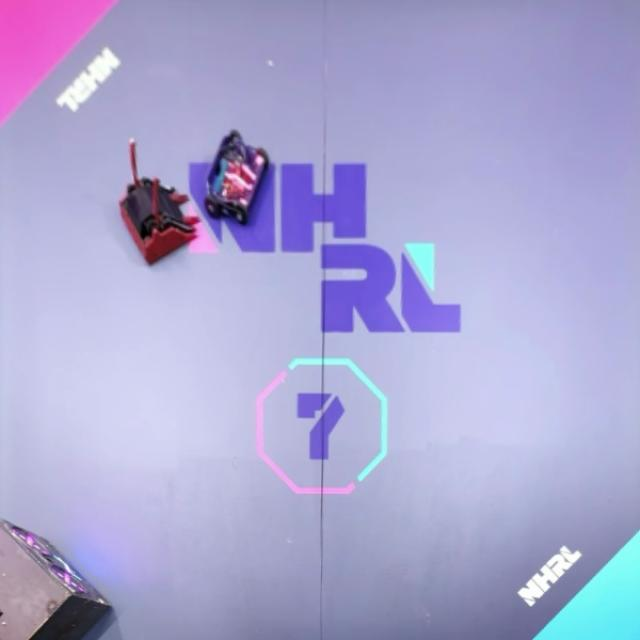housebot: (0, 520, 115, 640)
robot: (119, 137, 201, 266), (203, 131, 270, 225)
